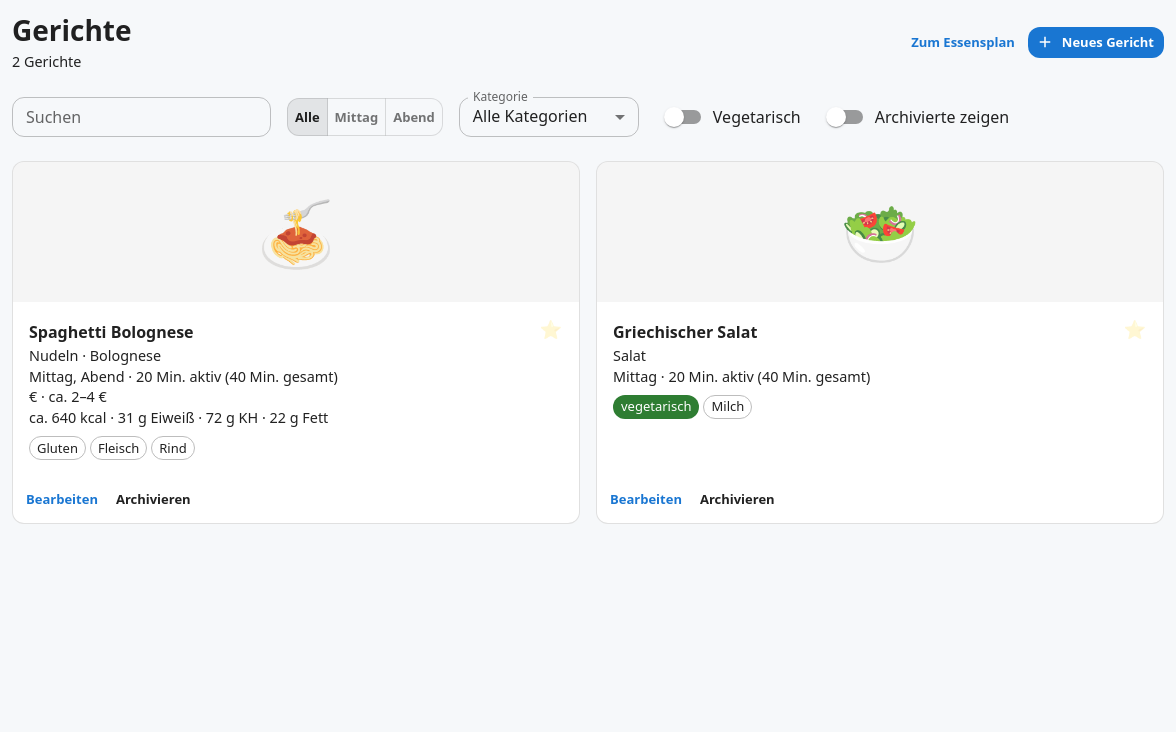
Test: DishesPage (FOOD-010) › explains a restore that clashes with an active dish name
What coordinates should you click on to do the following:
click the switch labelled "Archivierte zeigen"
I would click on:
 (917, 117)
Its box is [826,106,1009,128].
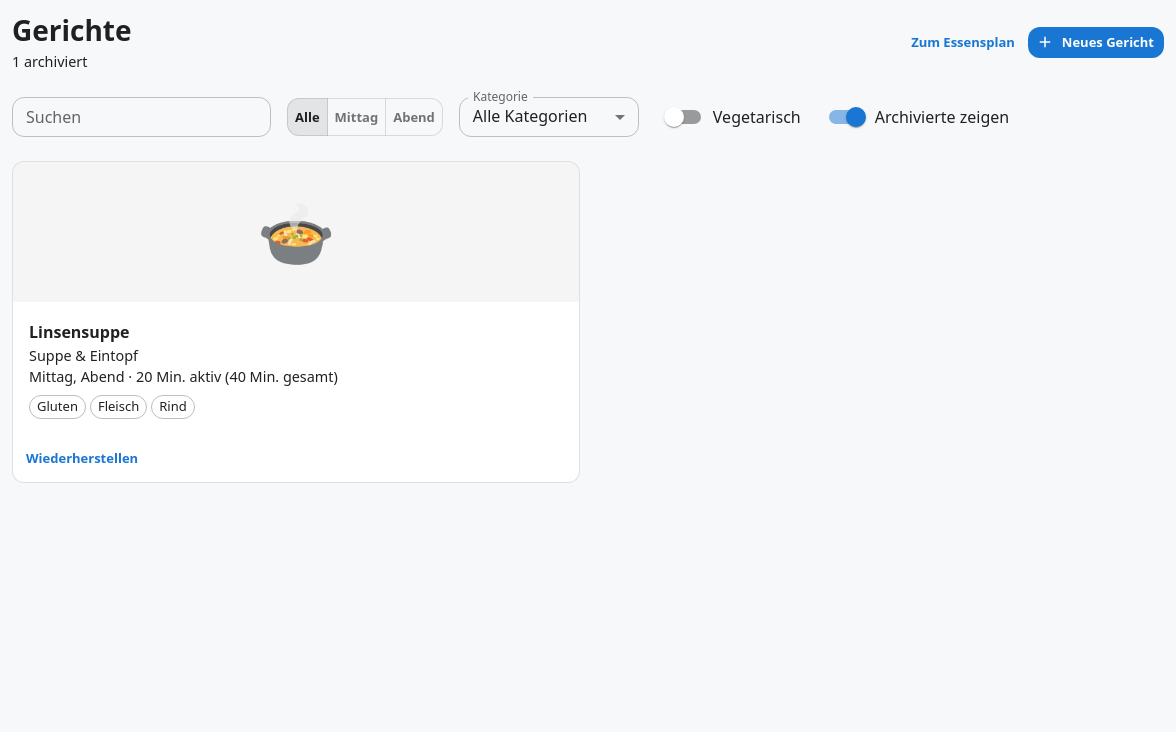
What coordinates should you click on to do the following:
click the button with aria-label "Linsensuppe wiederherstellen"
I would click on:
 (82, 459)
Its box is [21,443,143,474].
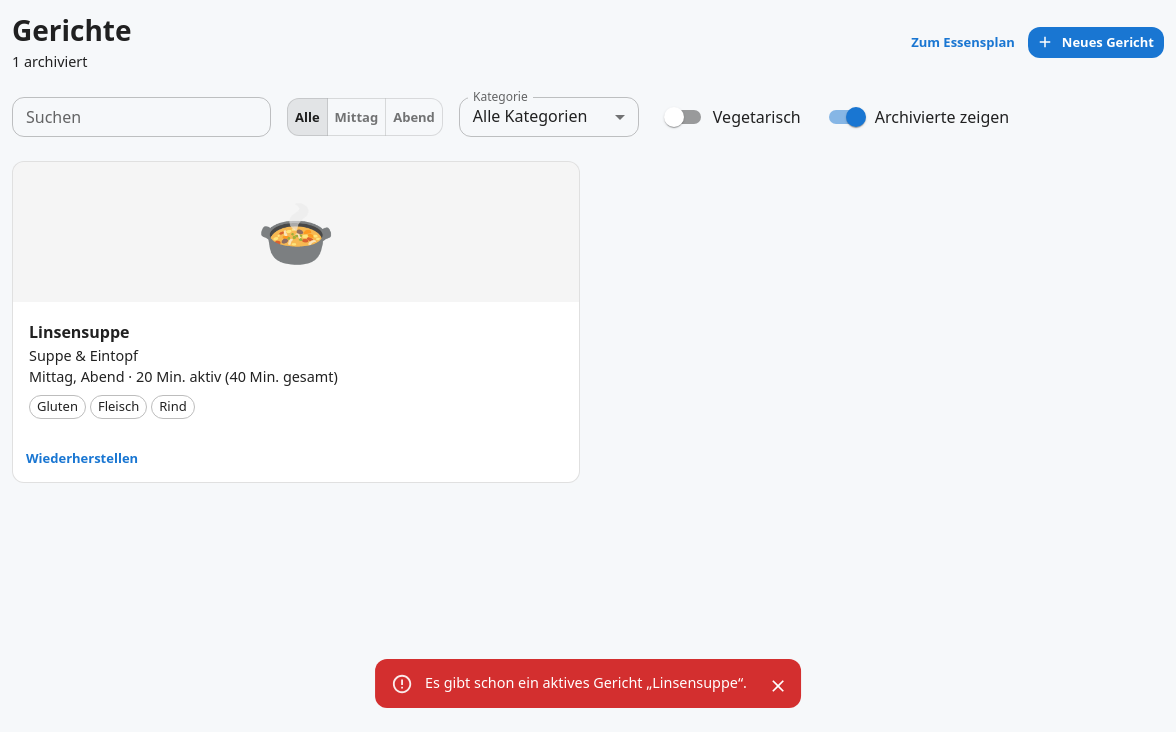
Check: the text "Es gibt schon ein aktives Gericht „Linsensuppe“." is shown, box [425,673,747,692]
